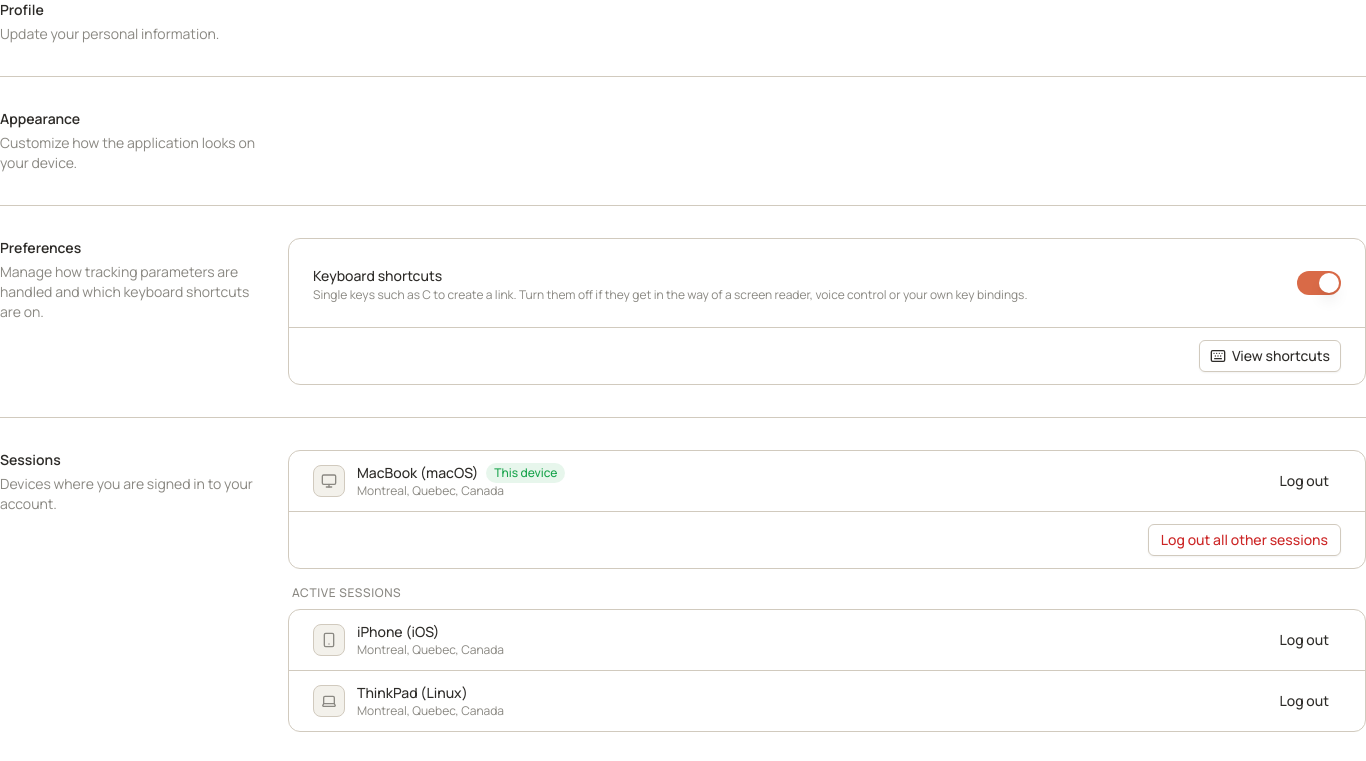
GeneralSettingsPage sessions › terminates another session after confirmation and removes it from the list
The width and height of the screenshot is (1366, 761).
Click the button "Log out" in the row of "iPhone (iOS)": (1304,640) 1268,624 -> 1341,656
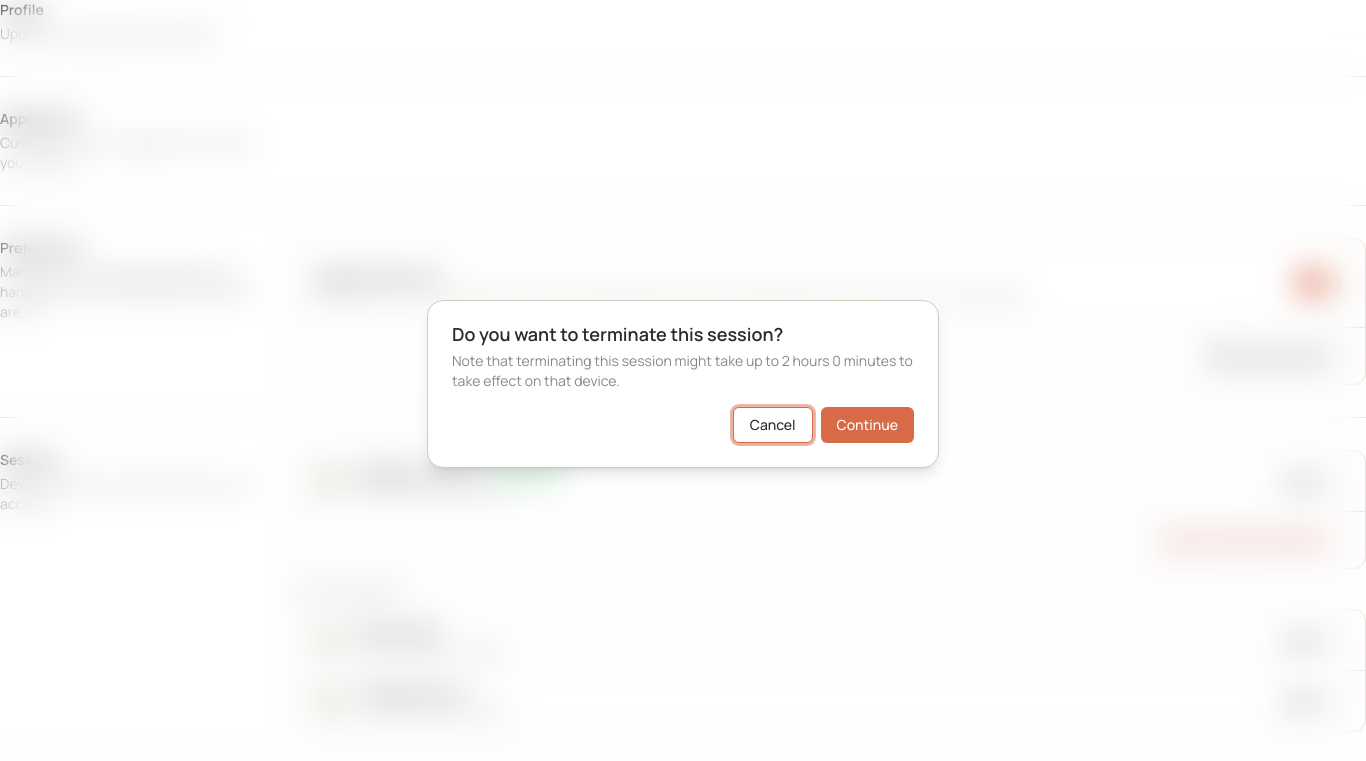
Click the button "Continue": (867,425) 821,407 -> 914,443
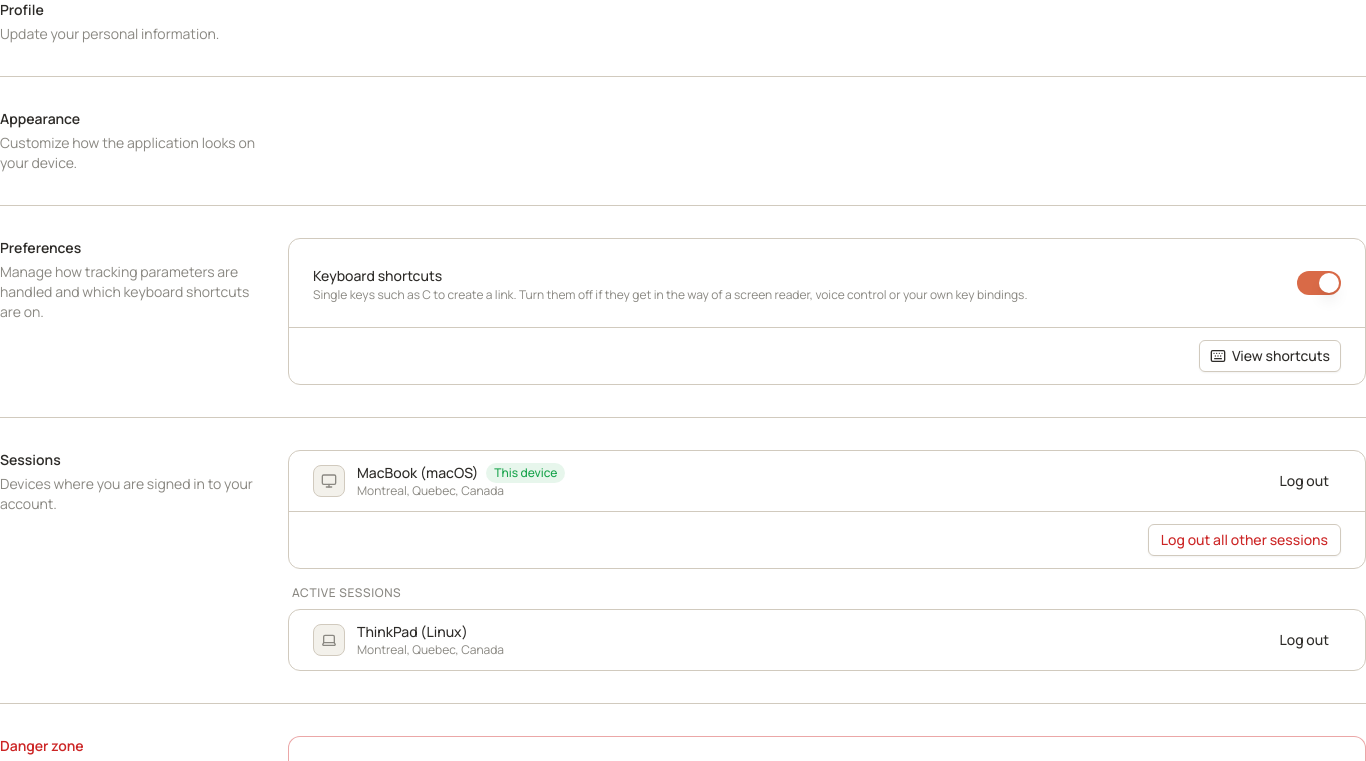
Expected: the text "ThinkPad (Linux)" is shown, 357,622 -> 468,642
Expected: the text "iPhone (iOS)" is gone
